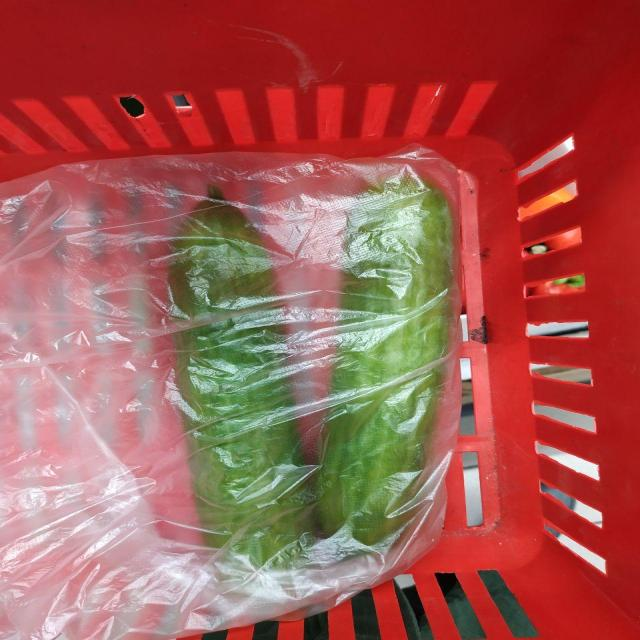Cucumber: (168, 199, 320, 566), (313, 175, 457, 546)
